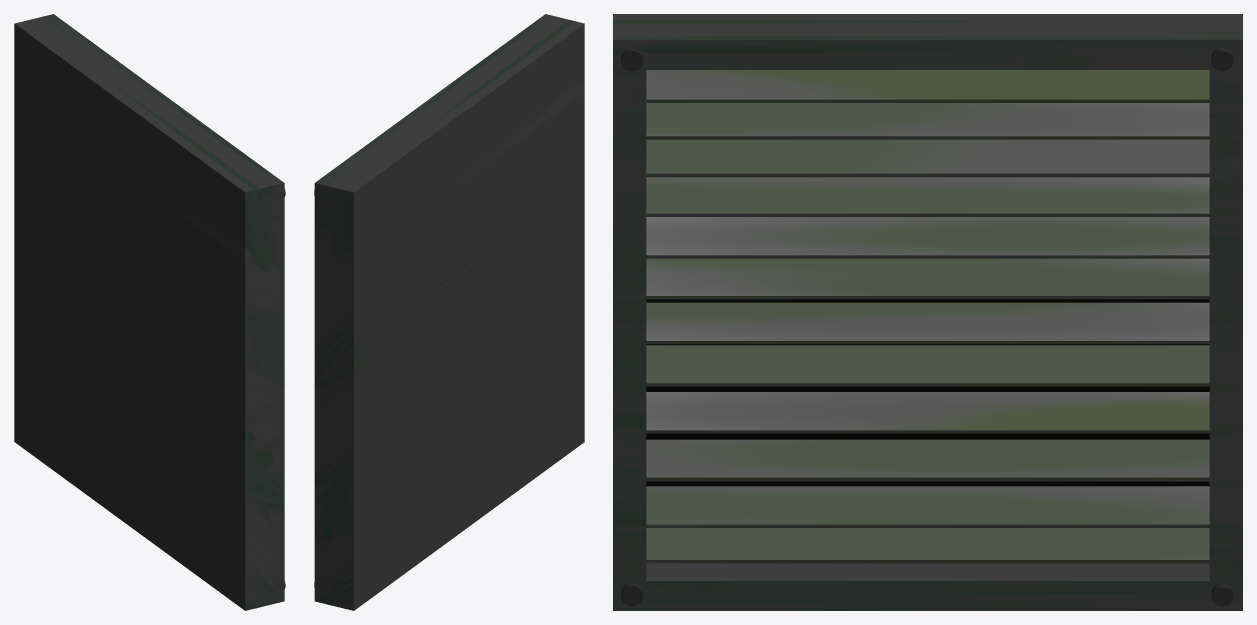
Rendered from Vent.fbx.
3 views of the same model, side by side, from view 1: azimuth 30°, elevation 25°; view 2: azimuth 150°, elevation 25°; view 3: azimuth 270°, elevation 25° (orthographic). The views are drawn at different scales.
Parts seen in each view (by area): view 1: Cube.001; view 2: Cube.001; view 3: Cube.001.
Boxes of the visible parts, x1,y1,x2,y2 form: Cube.001: (14,14,285,610); Cube.001: (314,14,584,610); Cube.001: (613,14,1242,610).
Size of the model in its own units: 80.76 by 748 by 748.
Materials: 1 (1 with a texture image).
